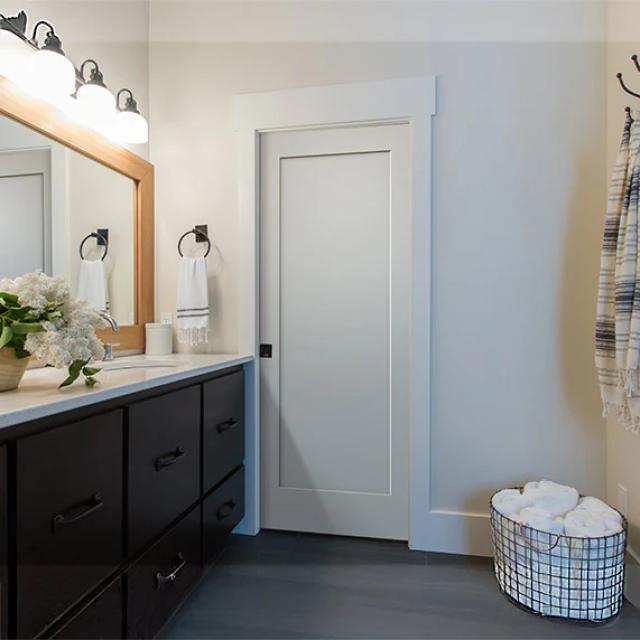door: (236, 75, 435, 551), (1, 145, 69, 284)
